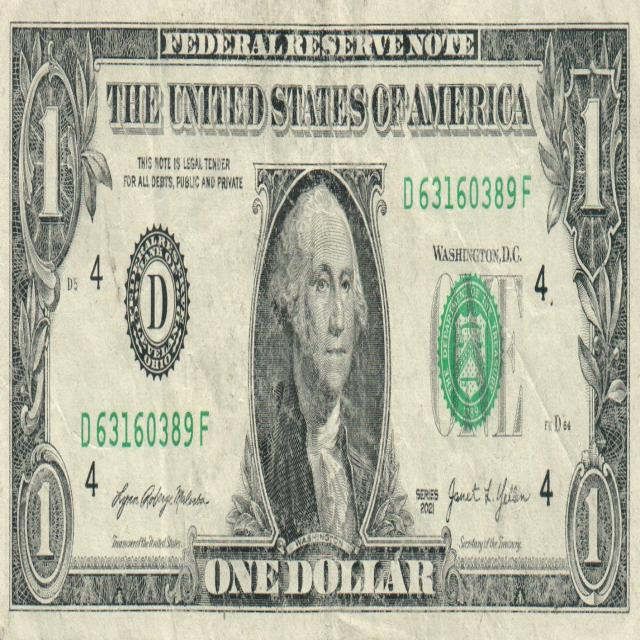SerialNumber: (82, 411, 209, 447), (404, 175, 531, 210)
